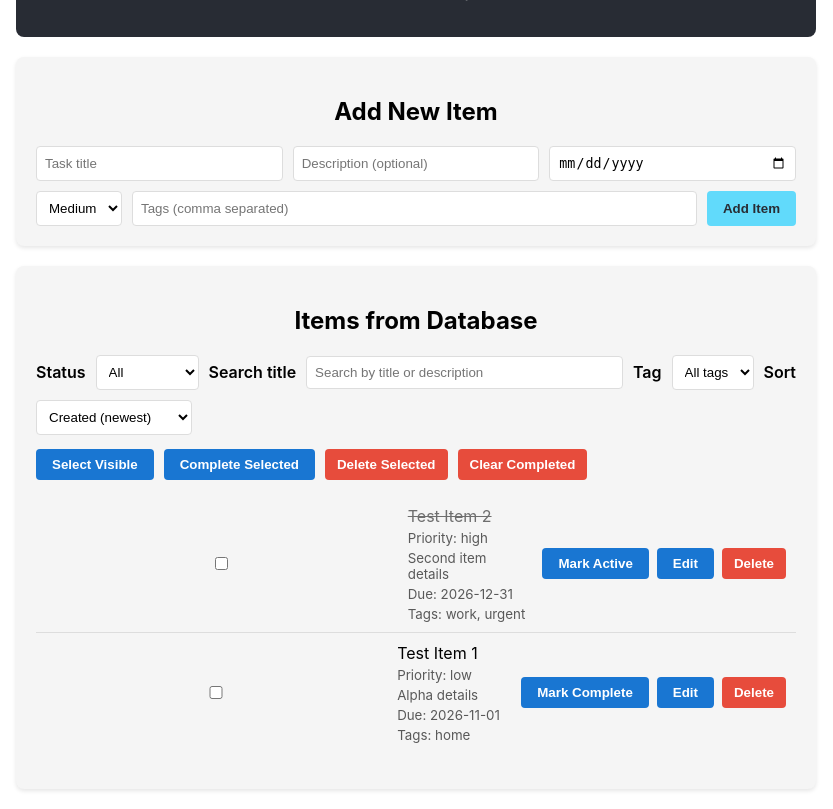
Test: App Component › edits an item title
This screenshot has width=833, height=809.
(page scrolled)
Expected: the text "Test Item 1" is shown, x1=397 y1=643 x2=478 y2=663
Click the button "Edit" below "Test Item 1" at (685, 693), box x1=657 y1=678 x2=714 y2=708
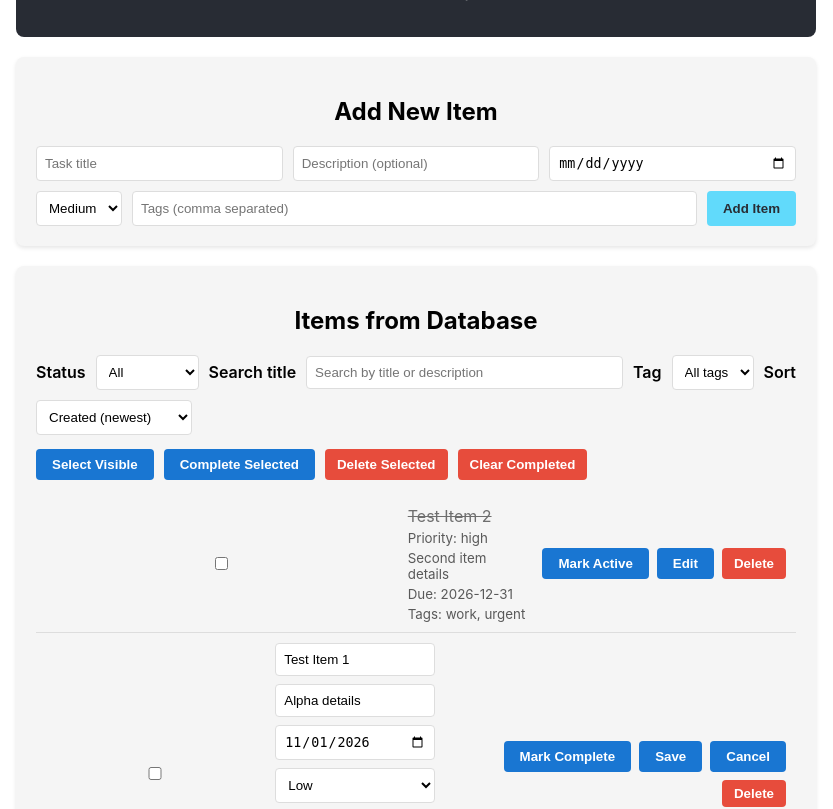
Replace the text in the field named "Edit name for Test Item 1" with "Updated Frontend Name" at (355, 660), box x1=275 y1=643 x2=435 y2=676
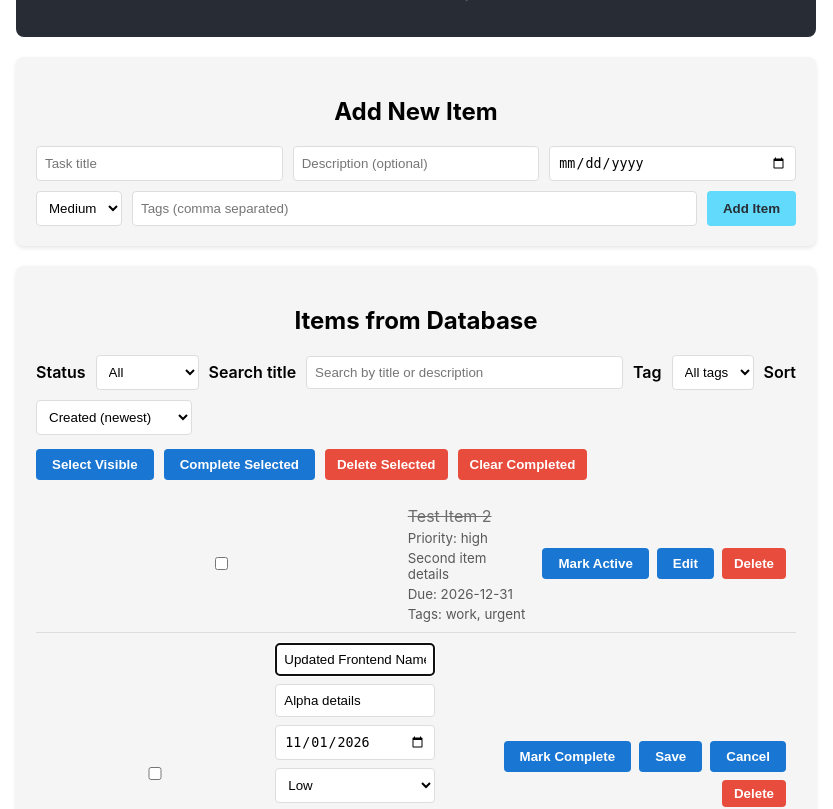
Click the button "Save" at (671, 756), box x1=639 y1=741 x2=702 y2=772
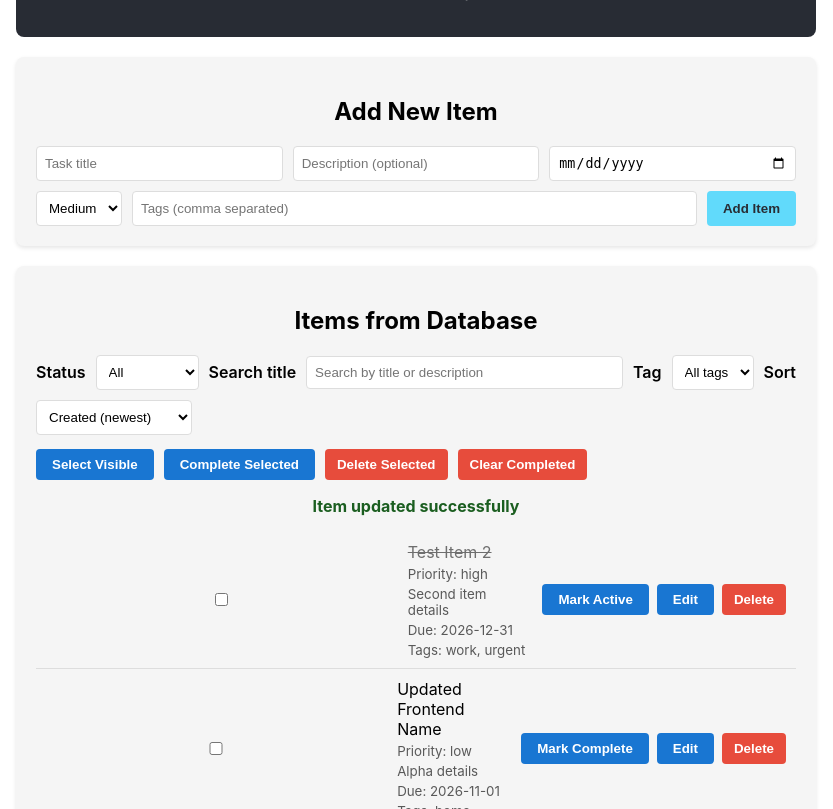
Expected: the text "Updated Frontend Name" is shown, x1=397 y1=679 x2=464 y2=739
